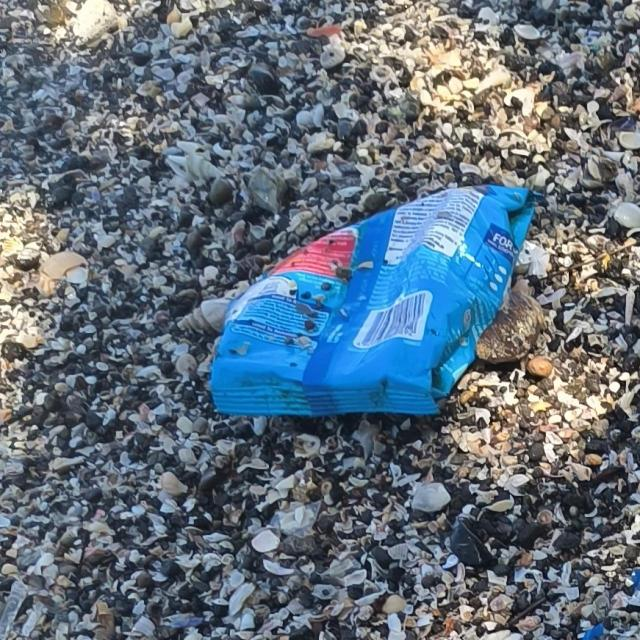plastic_waste: (208, 183, 538, 419)
